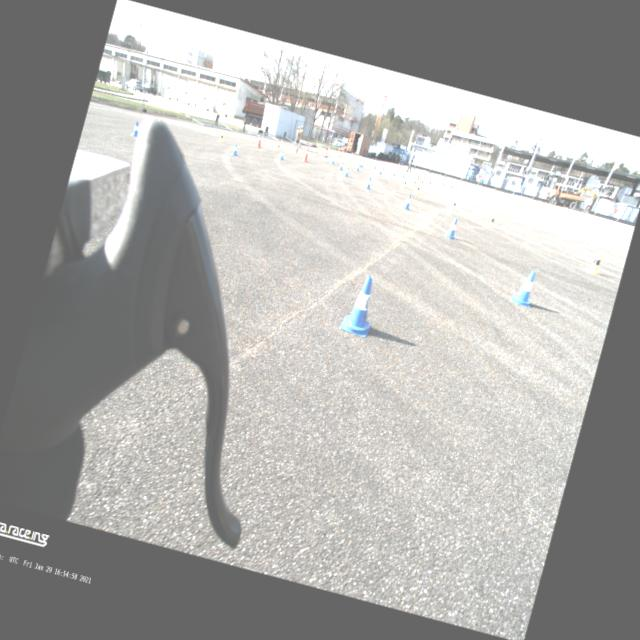blue_cone: (338, 270, 383, 338), (509, 266, 540, 308), (442, 216, 460, 240), (400, 192, 413, 210), (130, 120, 142, 138), (363, 176, 373, 190), (230, 142, 240, 156), (342, 165, 350, 178), (278, 150, 286, 160), (338, 160, 344, 170), (354, 163, 360, 172), (330, 156, 336, 164), (372, 162, 378, 170), (400, 170, 406, 178), (391, 168, 396, 176), (359, 160, 364, 168), (378, 167, 382, 174), (358, 160, 362, 167), (382, 163, 385, 170), (414, 172, 416, 178)
large_orange_cone: (300, 146, 310, 163), (254, 132, 264, 148)
orange_cone: (453, 182, 458, 188), (440, 180, 444, 187), (418, 174, 422, 180), (422, 174, 426, 180), (445, 181, 449, 187), (450, 182, 454, 188), (416, 174, 419, 180), (428, 176, 432, 180)
yellow_cone: (582, 249, 604, 276), (484, 212, 496, 230), (448, 198, 458, 212), (217, 132, 226, 144), (400, 178, 408, 188), (413, 184, 420, 194), (411, 178, 417, 187), (418, 178, 424, 187), (312, 148, 318, 156), (274, 142, 280, 150), (434, 178, 440, 186), (352, 156, 357, 162), (428, 179, 432, 186), (338, 154, 341, 160), (336, 153, 339, 159)
